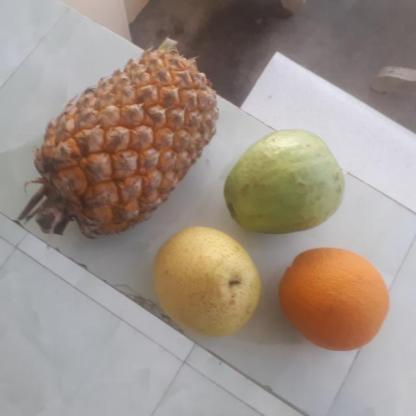guava: (222, 124, 347, 238)
orange: (274, 245, 392, 350)
pear: (149, 228, 266, 338)
pineapple: (34, 50, 212, 238)
